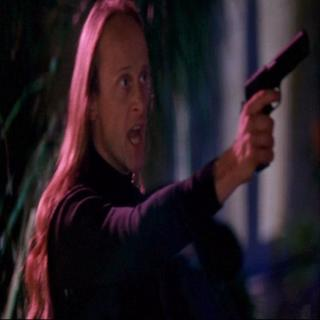gun: (236, 25, 313, 178)
